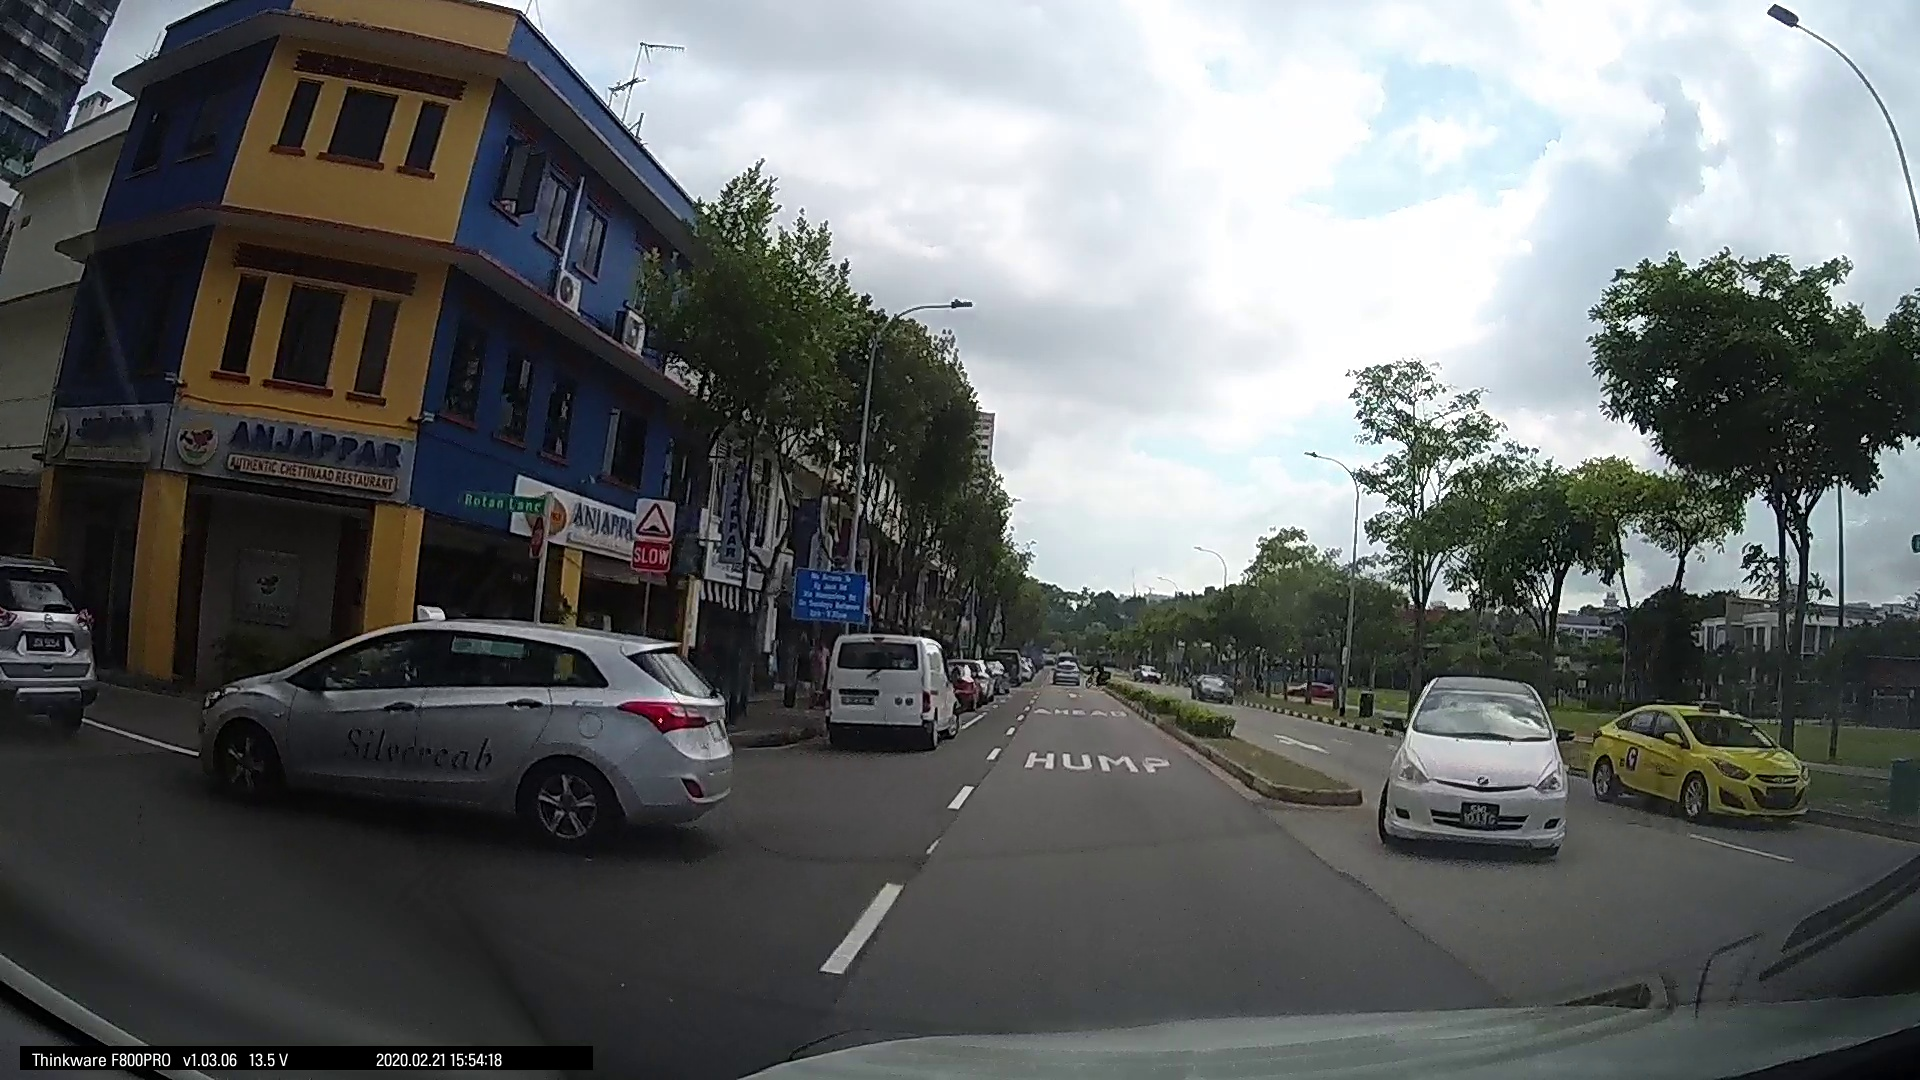Light Vehicle: (177, 613, 744, 843), (1370, 662, 1571, 861), (1585, 698, 1815, 825), (822, 624, 960, 752), (1, 555, 98, 735), (948, 655, 989, 707), (1185, 669, 1233, 711), (1043, 655, 1081, 687)
